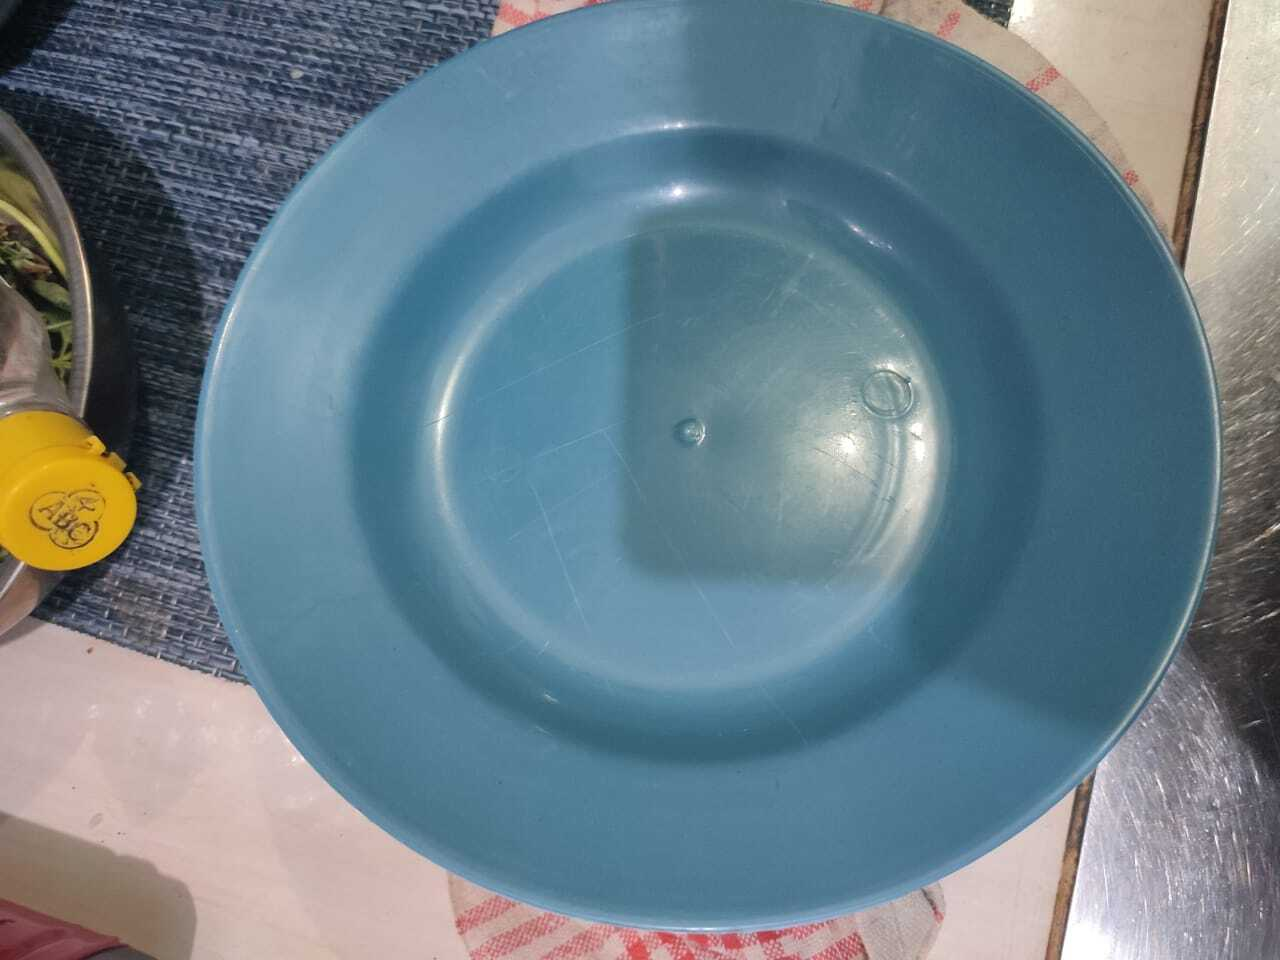piring: (195, 2, 1222, 923)
